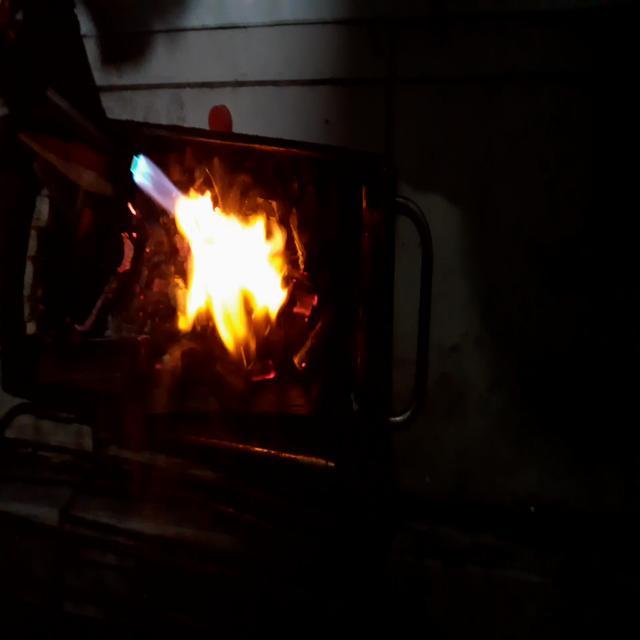Fire: (132, 124, 292, 375)
